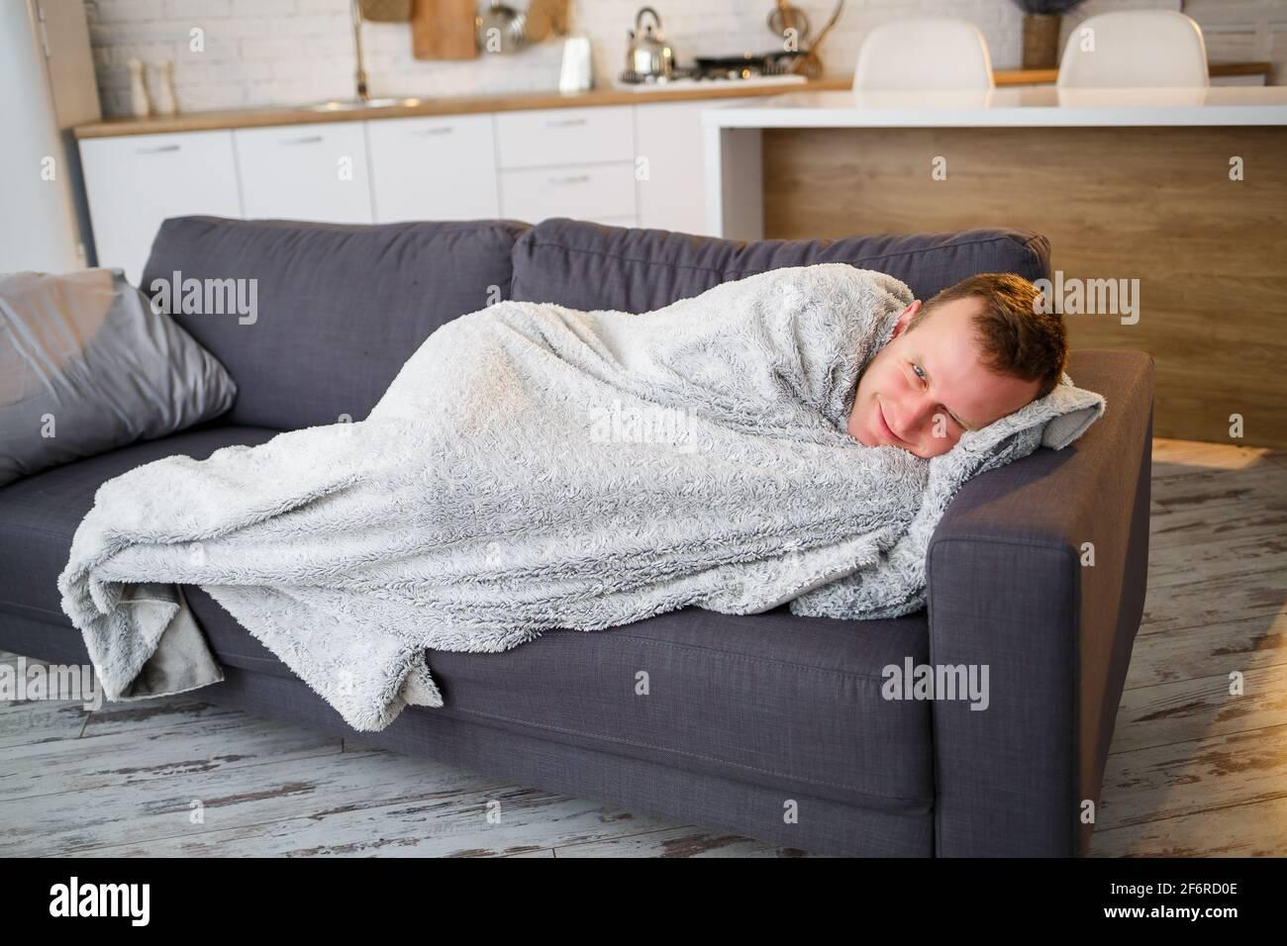blanket: (53, 261, 1102, 734)
